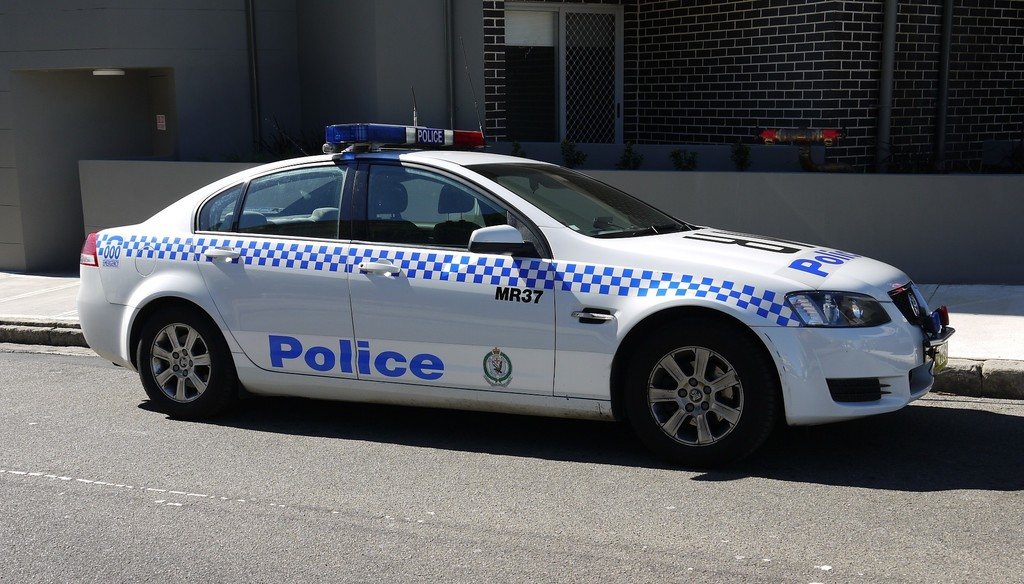Car: (62, 135, 952, 463)
